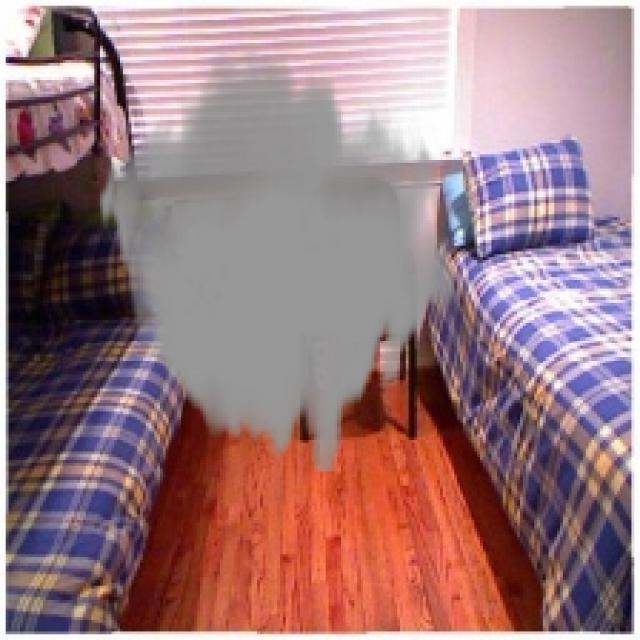Smoke: (97, 51, 457, 472)
